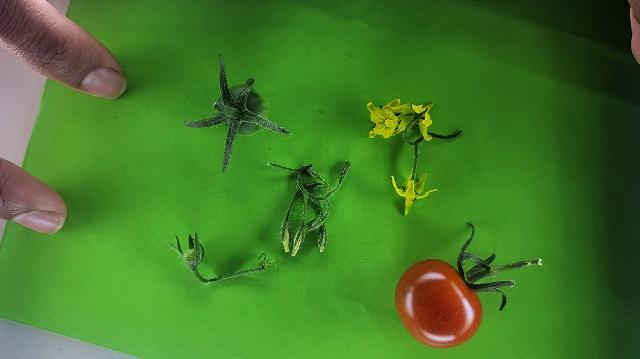Anthesis: (392, 169, 437, 216), (367, 99, 410, 139)
Flower Bud: (292, 232, 302, 254), (283, 235, 289, 253), (291, 244, 299, 257), (319, 240, 325, 253)
Fruit Bud: (165, 232, 210, 283), (183, 248, 197, 262)
Fruit Maturation: (227, 85, 271, 135)
Fully Grown: (393, 259, 485, 351)
